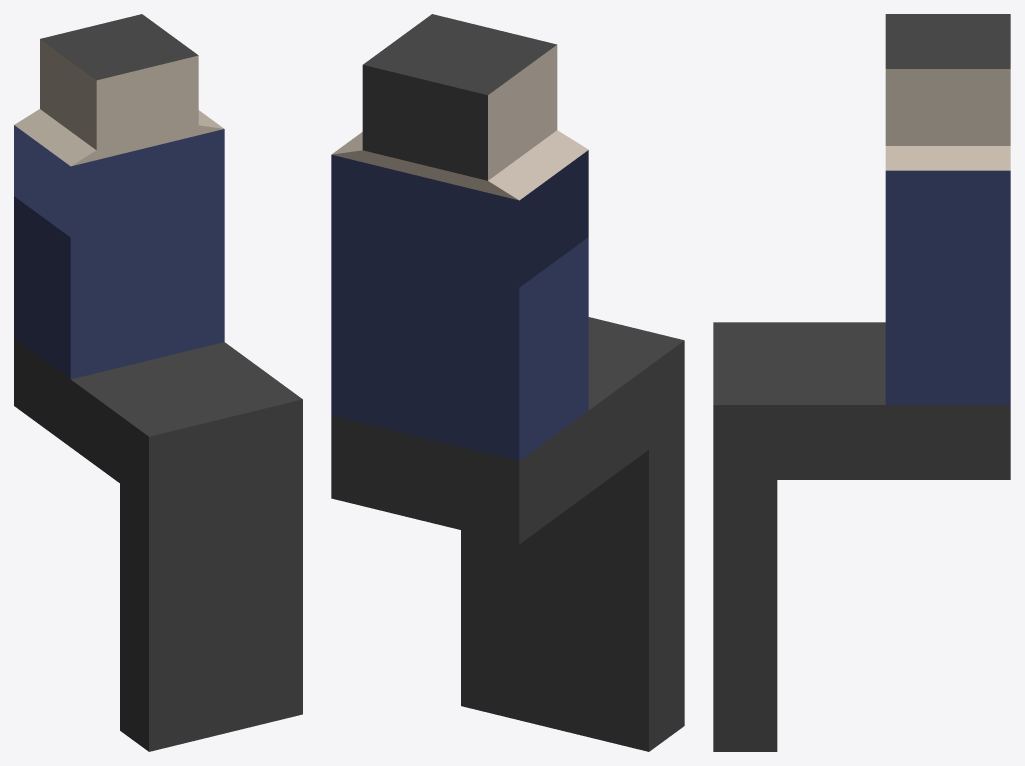
The model's file is sitting-guard.dae.
The picture shows the model from 3 angles, left to right: view 1: azimuth 30°, elevation 25°; view 2: azimuth 150°, elevation 25°; view 3: azimuth 270°, elevation 25°; orthographic projection. The views are drawn at different scales.
Parts seen in each view (by area): view 1: Plane_015; view 2: Plane_015; view 3: Plane_015.
Boxes of the visible parts, left/top/right/bottom form: Plane_015: left=14, top=14, right=302, bottom=751; Plane_015: left=331, top=14, right=684, bottom=751; Plane_015: left=713, top=14, right=1010, bottom=751.
Size of the model in its own units: 0.2512 by 0.382 by 0.9492.
